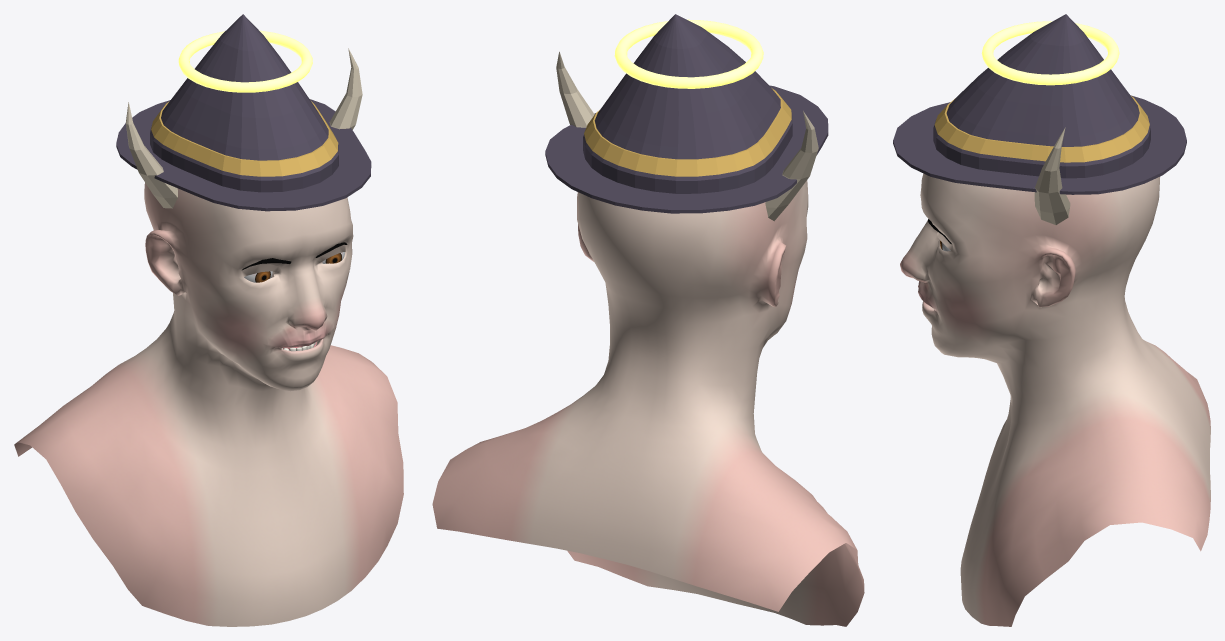
Rendered from Bust_animated.glb.
The picture shows the model from 3 angles, left to right: view 1: azimuth 30°, elevation 25°; view 2: azimuth 150°, elevation 25°; view 3: azimuth 270°, elevation 25°; orthographic projection. The views are drawn at different scales.
Parts seen in each view (by area): view 1: Basemesh, Acc_Hat, Acc_Horns, Acc_Halo; view 2: Basemesh, Acc_Hat, Acc_Halo, Acc_Horns; view 3: Basemesh, Acc_Hat, Acc_Halo, Acc_Horns.
Boxes of the visible parts, x1,y1,x2,y2 form: Basemesh: (14,183,403,626); Acc_Hat: (116,14,371,211); Acc_Horns: (125,48,362,208); Acc_Halo: (178,30,312,92); Basemesh: (432,180,864,626); Acc_Hat: (545,14,828,213); Acc_Halo: (614,19,763,88); Acc_Horns: (556,51,818,221); Basemesh: (900,173,1210,626); Acc_Hat: (893,14,1186,194); Acc_Halo: (981,21,1119,85); Acc_Horns: (1034,127,1070,224).
Bounding box in the file's own units: 3.52 × 5.59 × 2.77.
Materials: 13 (4 with a texture image).
